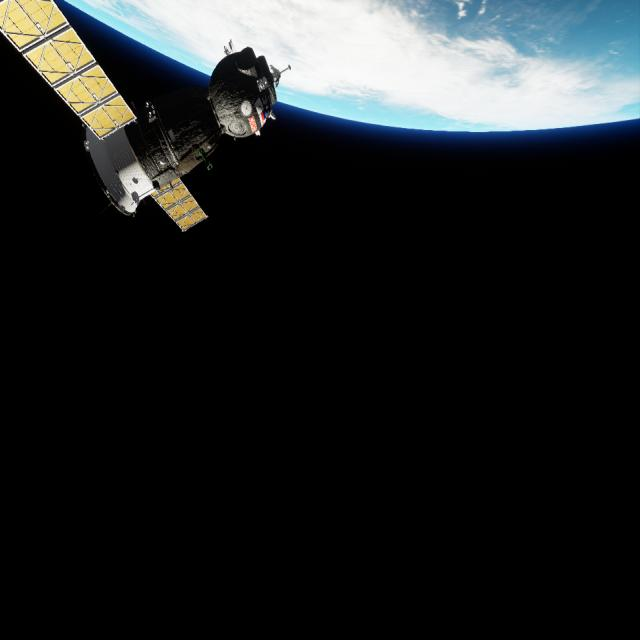Satellites revolving around earth: (1, 1, 291, 235)
